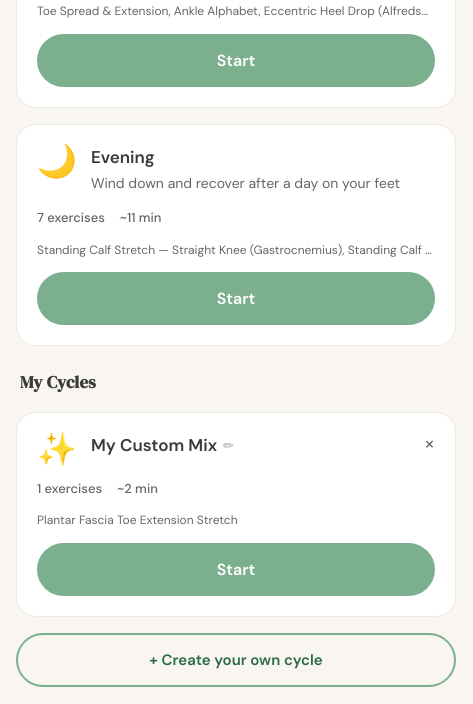
Test case: Cycle — pick view › deletes a custom cycle after confirmation
(page scrolled)
Click the button named "Delete cycle": (428, 443) [420,433,435,453]
(page scrolled)
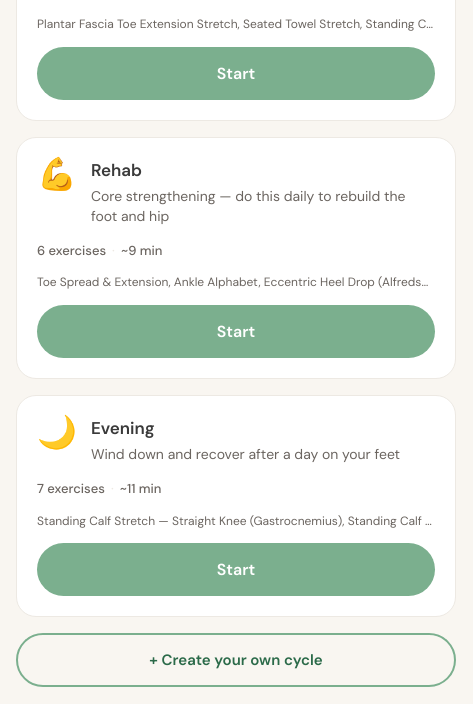
Now the text "My Custom Mix" is gone
